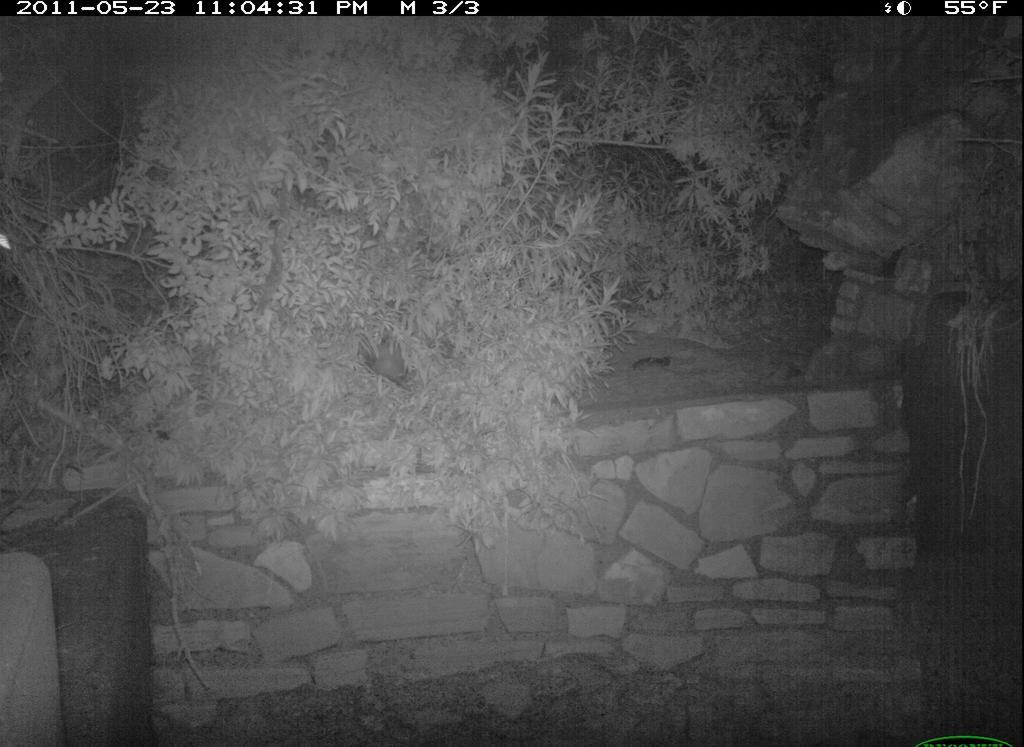opossum: (352, 336, 429, 398)
